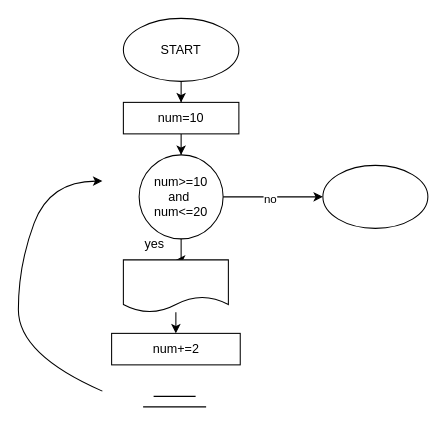
This 446x426 diagram has some shape labels left out. The box of each missing label's shape, as (x1, y1, x2, y2) in pixels:
num: (122, 259, 228, 312)
STOP: (322, 164, 428, 228)
